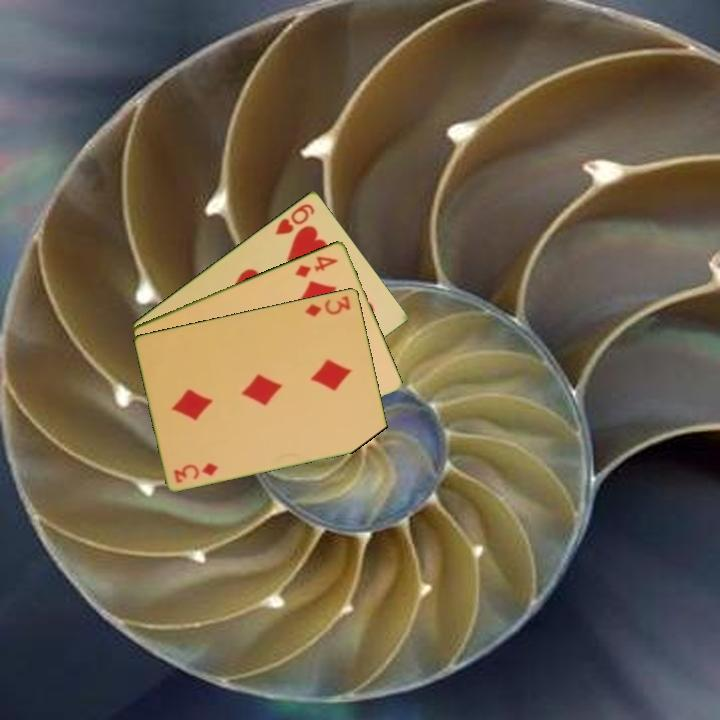3d: (302, 292, 353, 319), (170, 459, 221, 485)
4d: (292, 252, 341, 280)
6h: (271, 199, 318, 238)
